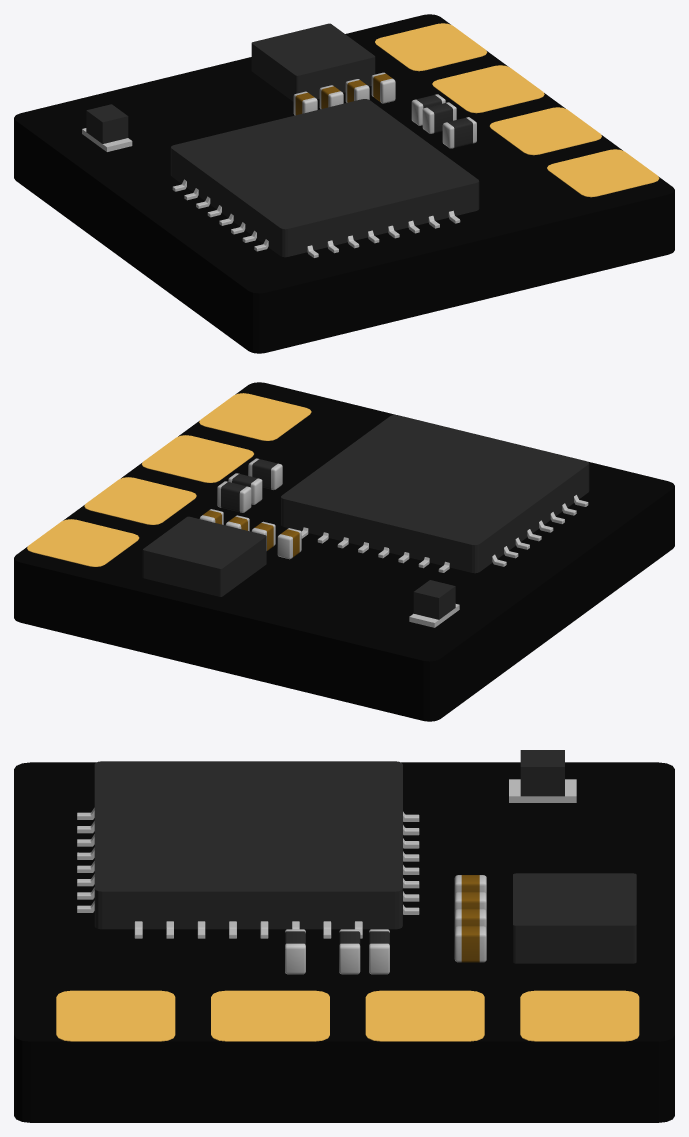
3 views of the same model, one above another, from view 1: azimuth 30°, elevation 25°; view 2: azimuth 150°, elevation 25°; view 3: azimuth 270°, elevation 25° (orthographic). The views are drawn at different scales.
Visible parts, largest first — view 1: rx_joined; view 2: rx_joined; view 3: rx_joined.
Boxes of the visible parts, x1,y1,x2,y2 form: rx_joined: [14, 14, 674, 353]; rx_joined: [14, 382, 674, 721]; rx_joined: [14, 750, 674, 1122].
Bounding box in the file's own units: 0.1 × 0.0201 × 0.1.
